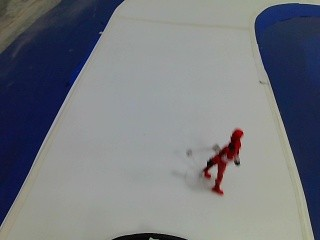pedestrian: (199, 118, 249, 198)
